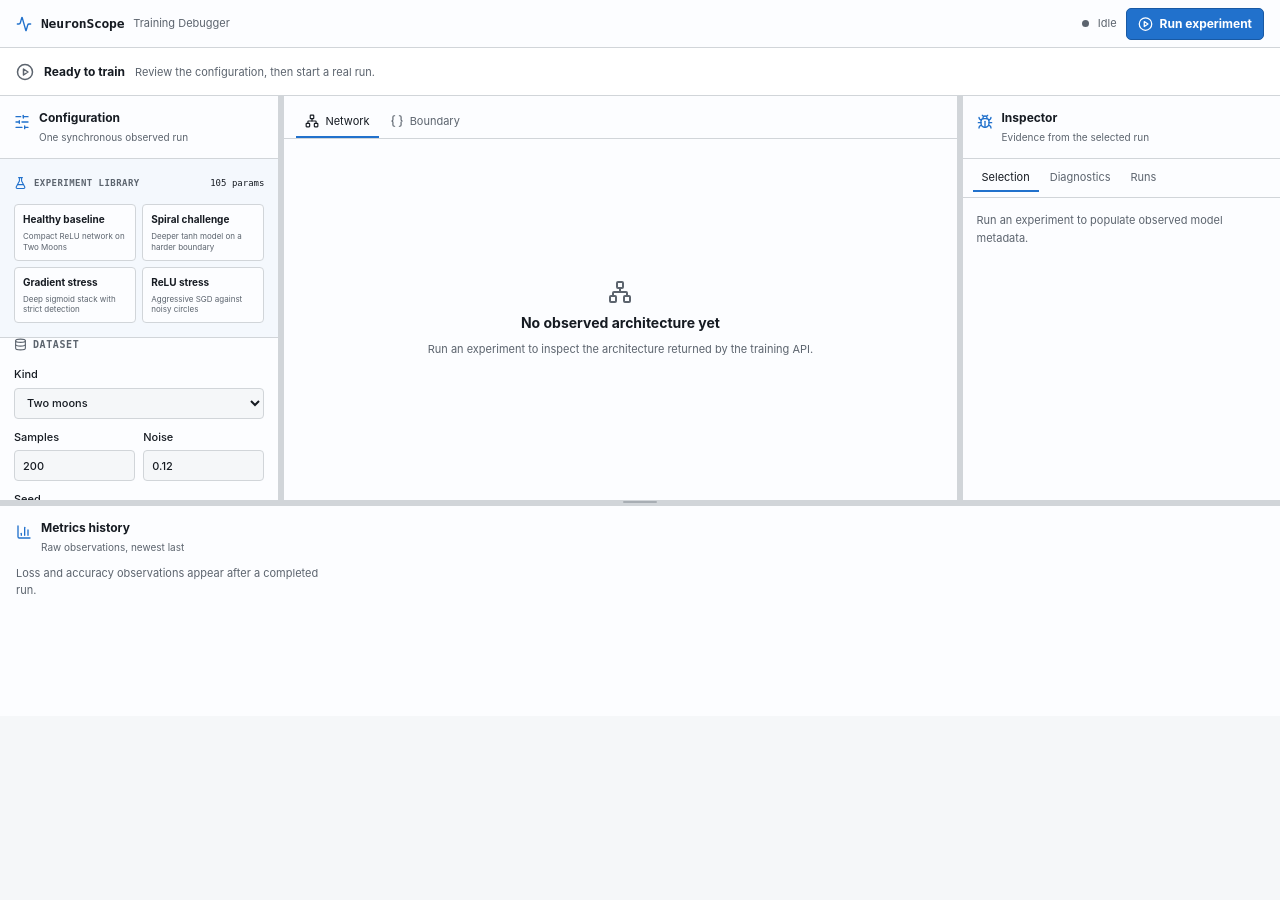
App › selects a recorded run and restores its playback evidence
Click the button "Run experiment" at (1195, 24), box [1126,8,1264,40]
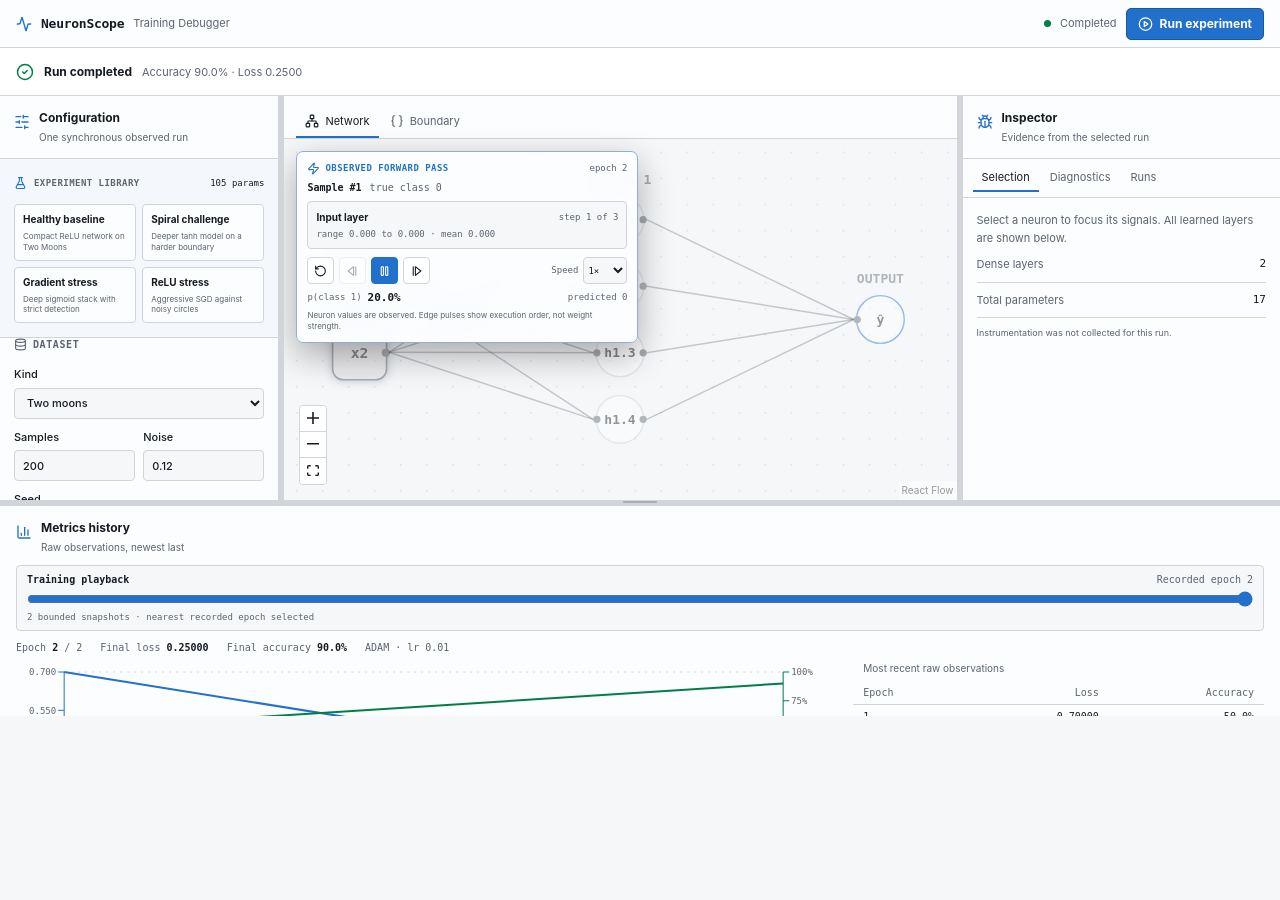
Expected: the text "Run completed" is shown, [44,62,132,80]
Click the button "Run experiment" at (1195, 24), box [1126,8,1264,40]
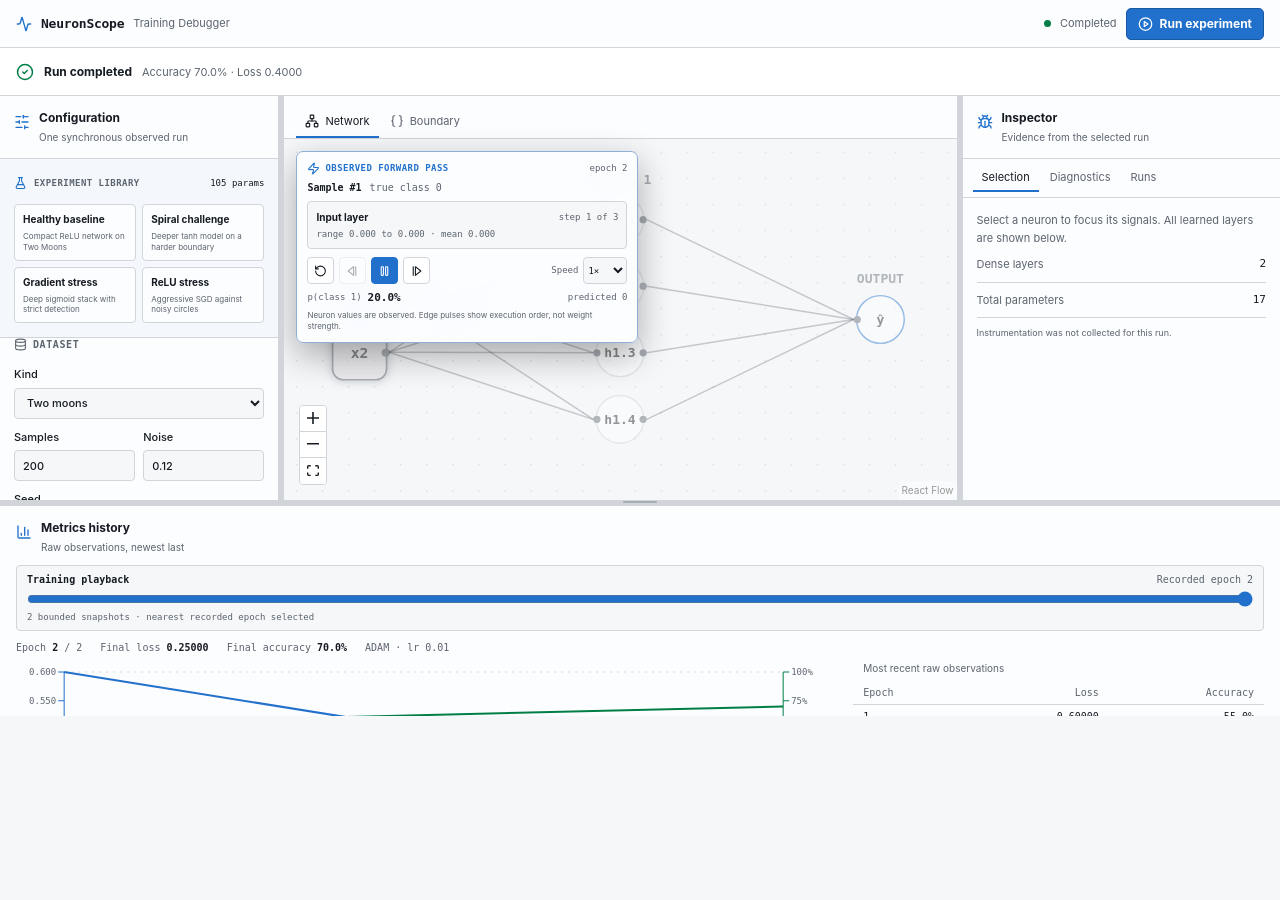
Expected: the element named "Run progress and final metrics" shows "70.0%", [16,642,449,653]
Click the tab "Runs" at (1143, 178), box [1122,164,1165,192]
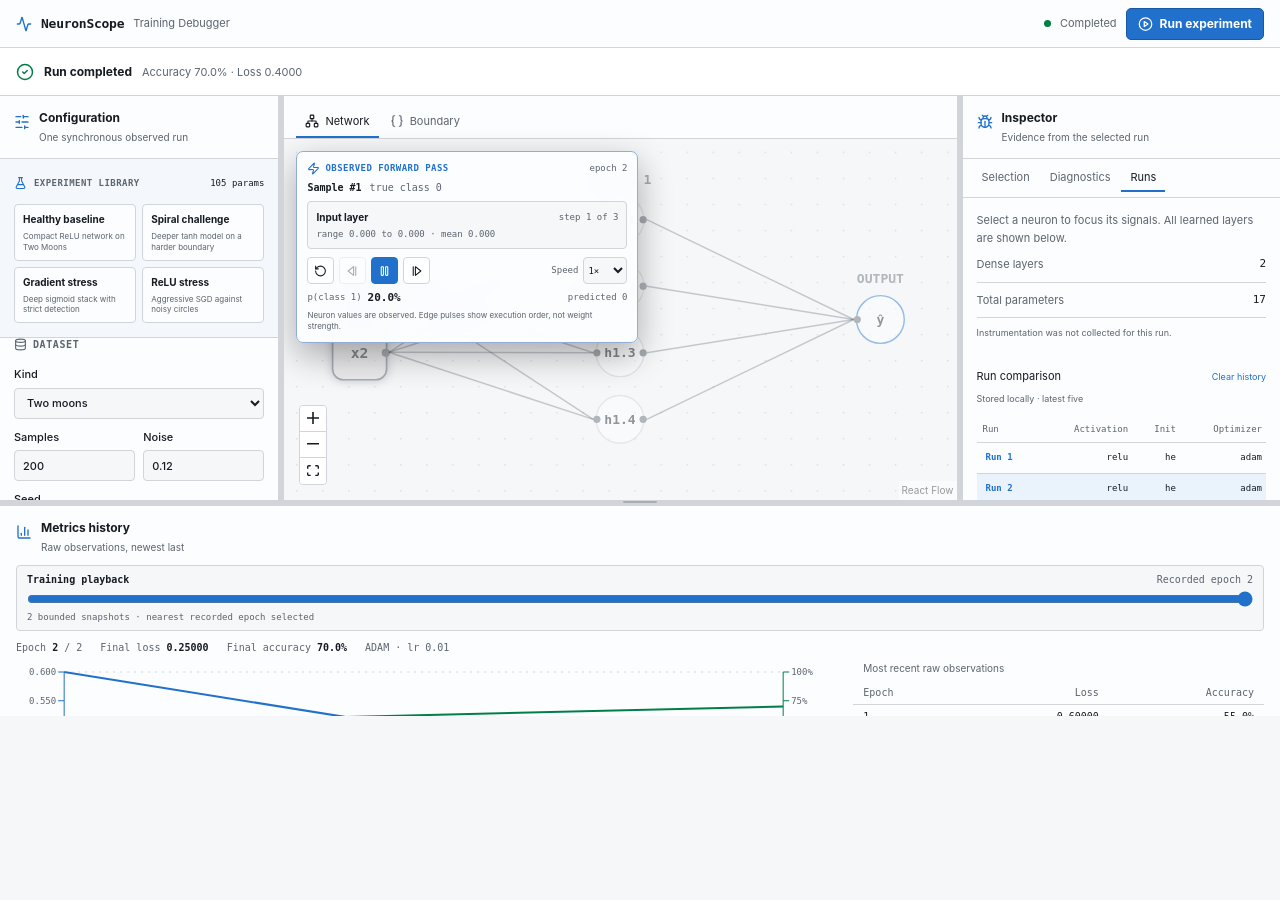
Click the button "Run 1" at (999, 458), box [982,449,1016,467]
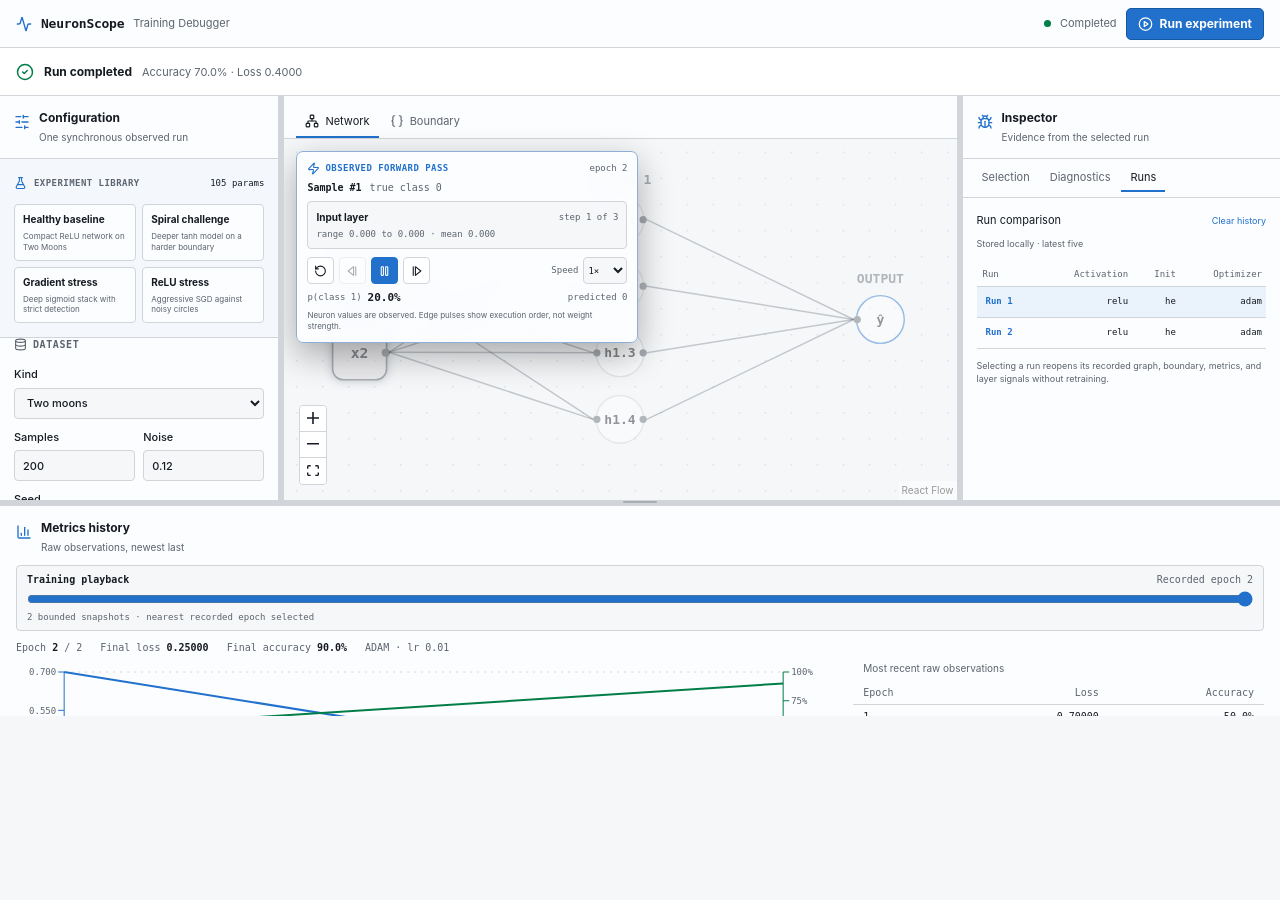
Expected: the element named "Run progress and final metrics" shows "90.0%", [16,642,449,653]
